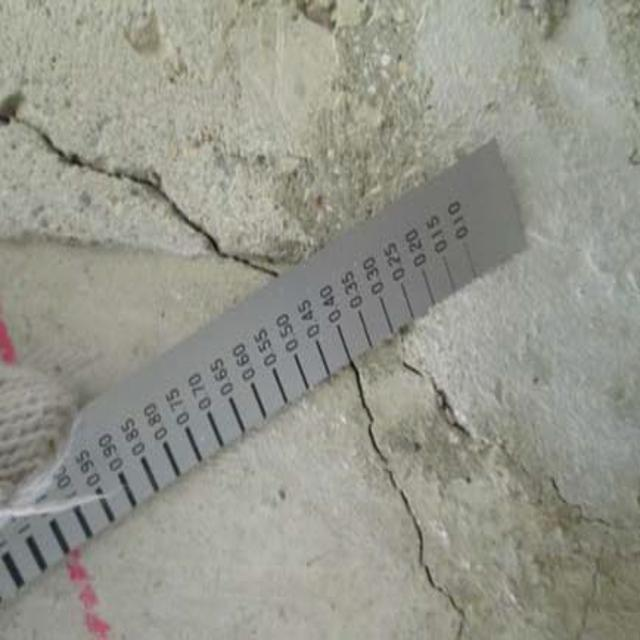crack: (334, 357, 604, 640), (0, 96, 296, 306)
